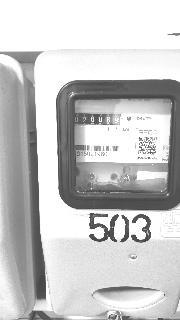1: (76, 117, 79, 122), (100, 117, 103, 122)
3: (84, 118, 87, 123)
9: (92, 117, 95, 122), (107, 118, 110, 123)
:: (115, 118, 118, 123)
